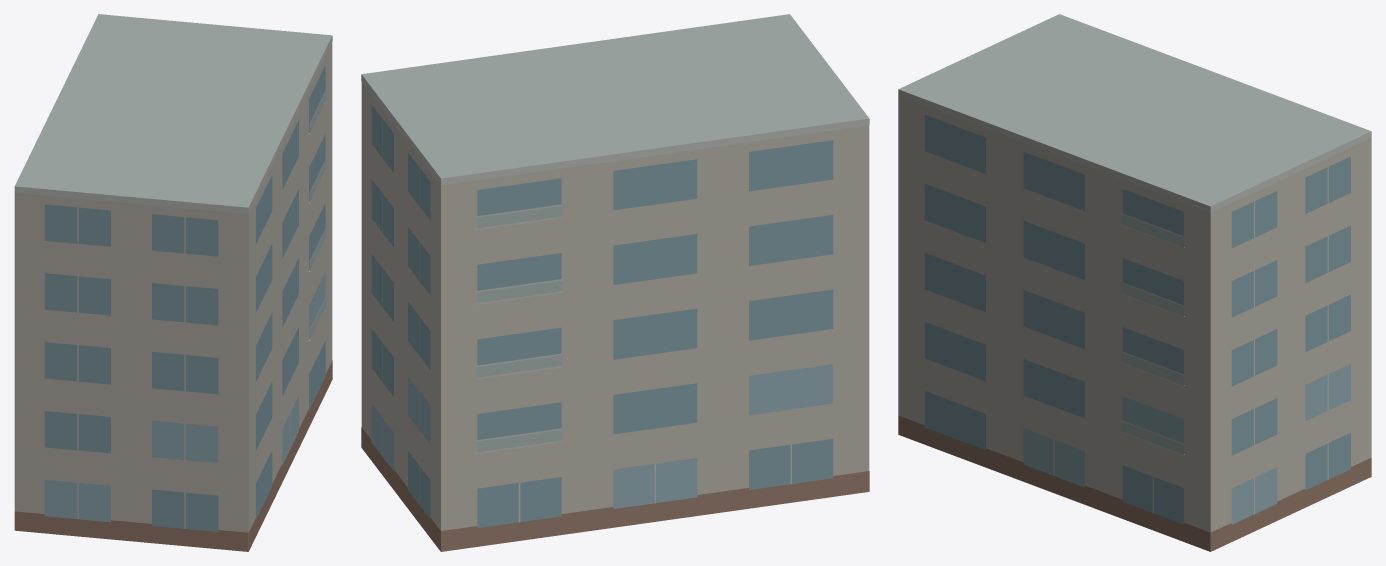
The model's file is survey-upis-32529444.glb.
3 renders of one model, left to right at view 1: azimuth 30°, elevation 25°; view 2: azimuth 150°, elevation 25°; view 3: azimuth 270°, elevation 25°, orthographic. The views are drawn at different scales.
Visible parts, largest first — view 1: survey-upis-32529444.tmp; view 2: survey-upis-32529444.tmp; view 3: survey-upis-32529444.tmp.
Part boxes in pixels (x1=…): survey-upis-32529444.tmp: x1=14, y1=14, x2=332, y2=551; survey-upis-32529444.tmp: x1=361, y1=14, x2=869, y2=551; survey-upis-32529444.tmp: x1=898, y1=14, x2=1371, y2=551.
Size of the model in its own units: 15.78 by 13.2 by 16.41.
